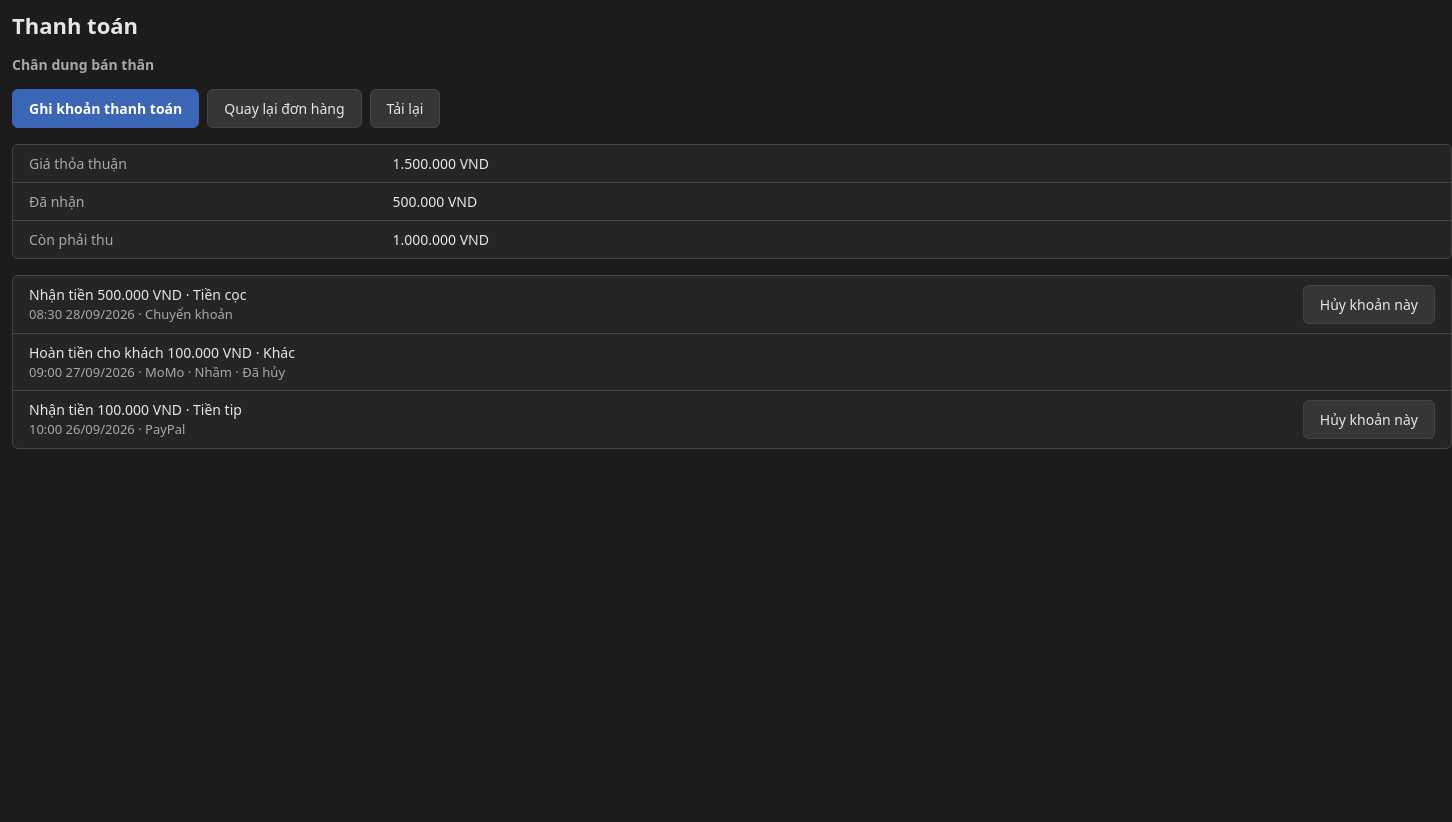
page payment_list: voiding a payment (§7.2, principle 5) › "Hủy khoản này" asks first, inside the page: Routers is asked with confirmed = false; the words of the consequence; the focus on "Xác nhận"; nothing is voided
Check: the element named "Số dư đơn hàng" is shown, box x1=12 y1=144 x2=1451 y2=259
Check: the element "Xác nhận hủy khoản" is not shown
Click the button "Hủy khoản này" in the row of "Nhận tiền 500.000 VND · Tiền cọc": (1369, 304) x1=1303 y1=285 x2=1435 y2=324
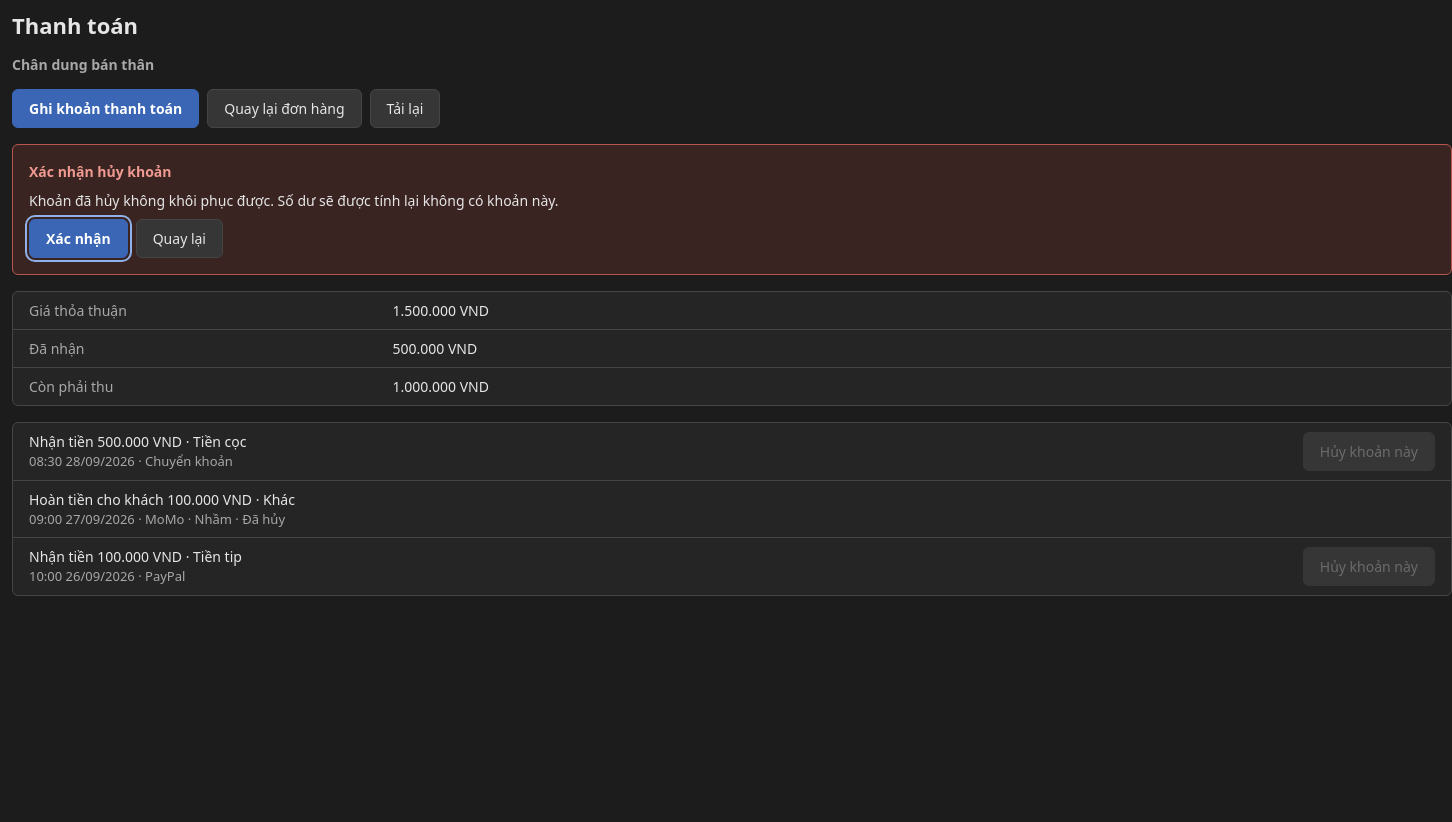
Check: the element "Xác nhận hủy khoản" shows "Khoản đã hủy không khôi phục được. Số dư sẽ được tính lại không có khoản này.", box x1=29 y1=191 x2=559 y2=210
Check: the buttons read "Xác nhận", "Quay lại", in this order, box x1=29 y1=219 x2=128 y2=258; x1=136 y1=219 x2=223 y2=258
